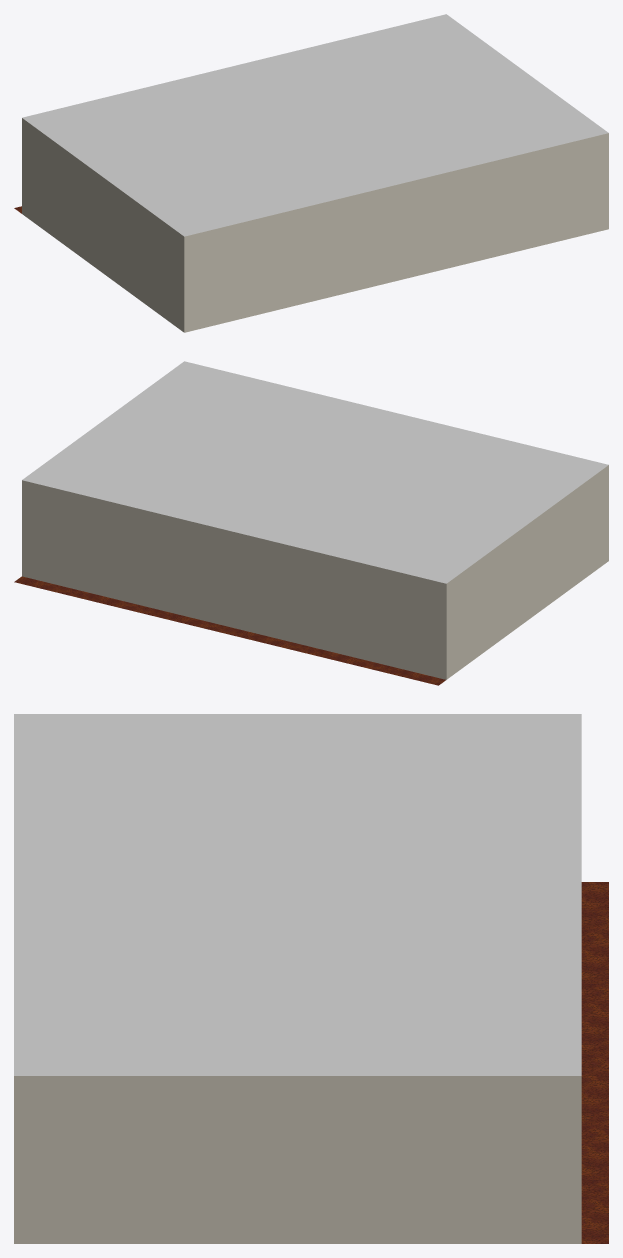
File: Default Cybers.fbx
The picture shows the model from 3 angles, top to bottom: view 1: azimuth 30°, elevation 25°; view 2: azimuth 150°, elevation 25°; view 3: azimuth 270°, elevation 25°; orthographic projection. The views are drawn at different scales.
Parts seen in each view (by area): view 1: Circle.044; view 2: Circle.044; view 3: Circle.044.
Part boxes in pixels (box(x1,y1,x2,y2)): Circle.044: box(14, 14, 608, 332); Circle.044: box(14, 361, 608, 685); Circle.044: box(14, 714, 608, 1243).
Bounding box in the file's own units: 1368 × 296 × 951.
